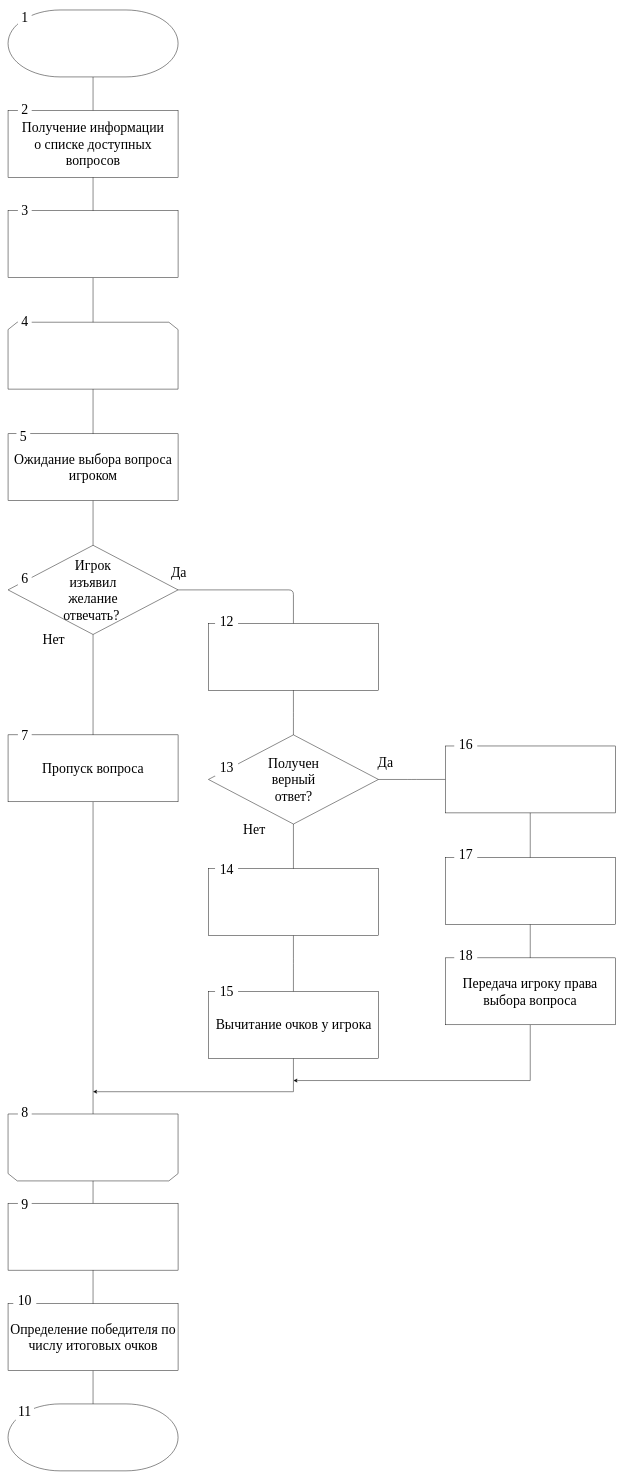
Image size: 623x1479. Some labels were removed from this diagram. Here are the shapes that lost their labels. From the top down, the box of each, then its label:
(8, 10, 178, 77): Начало
(8, 210, 178, 278): Передача права выбора вопроса игроку
(8, 322, 178, 389): А1 До окончания всех доступных вопросов
(208, 623, 378, 690): Ожидание ответа на вопрос игроком
(445, 746, 615, 813): Подтверждение правильности ответа организатором
(208, 868, 378, 936): Подтверждение неправильности ответа организатором
(445, 857, 615, 924): Начисление очков игроку
(8, 1114, 178, 1181): А1
(8, 1203, 178, 1270): Подсчет итоговых очков
(8, 1403, 178, 1471): Конец
